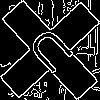U: (25, 25, 83, 83)
